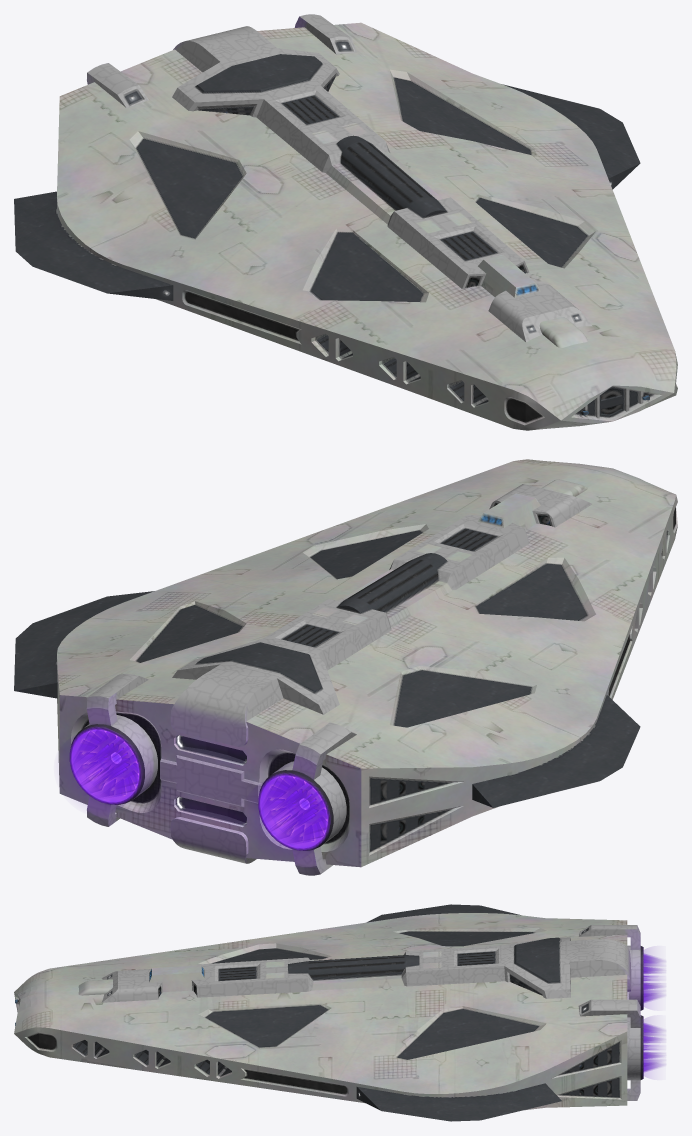
The model's file is drone_carrier.gltf.
3 renders of one model, top to bottom at view 1: azimuth 30°, elevation 25°; view 2: azimuth 150°, elevation 25°; view 3: azimuth 270°, elevation 25°, orthographic. The views are drawn at different scales.
Parts seen in each view (by area): view 1: base_glow; view 2: base_glow, Sphere.002; view 3: base_glow, Sphere.002.
Part boxes in pixels (x1,y1,x2,y2): base_glow: (14,14,677,430); base_glow: (14,459,677,875); Sphere.002: (66,730,327,852); base_glow: (14,904,643,1121); Sphere.002: (643,948,664,1077).
Size of the model in its own units: 7.83 by 2.13 by 10.12.
Materials: 2 (2 with a texture image).
